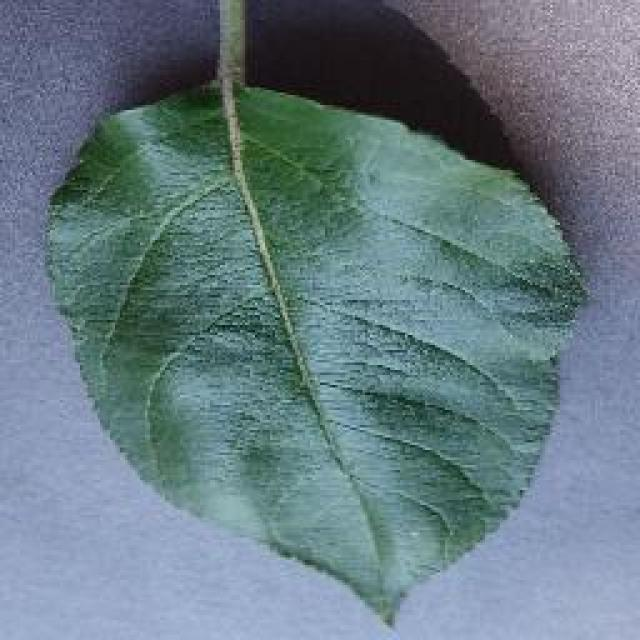apple healthy: (40, 0, 590, 625)
